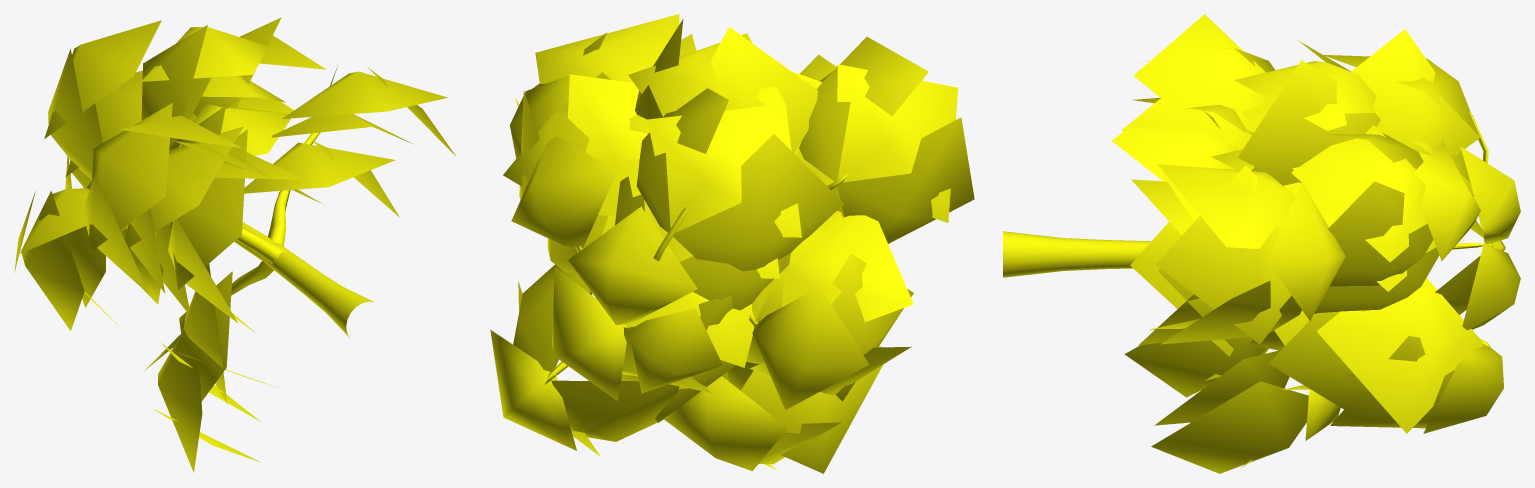
The model's file is birch_tree.glb.
3 renders of one model, left to right at view 1: azimuth 30°, elevation 25°; view 2: azimuth 150°, elevation 25°; view 3: azimuth 270°, elevation 25°, orthographic. The views are drawn at different scales.
Visible parts, largest first — view 1: Birch_tree1; view 2: Birch_tree1; view 3: Birch_tree1.
Part boxes in pixels (x1,y1,x2,y2): Birch_tree1: [14, 17, 456, 472]; Birch_tree1: [490, 14, 974, 473]; Birch_tree1: [1003, 14, 1520, 473].
Bounding box in the file's own units: 12.52 × 12.64 × 13.55.
Materials: 2 (2 with a texture image).
